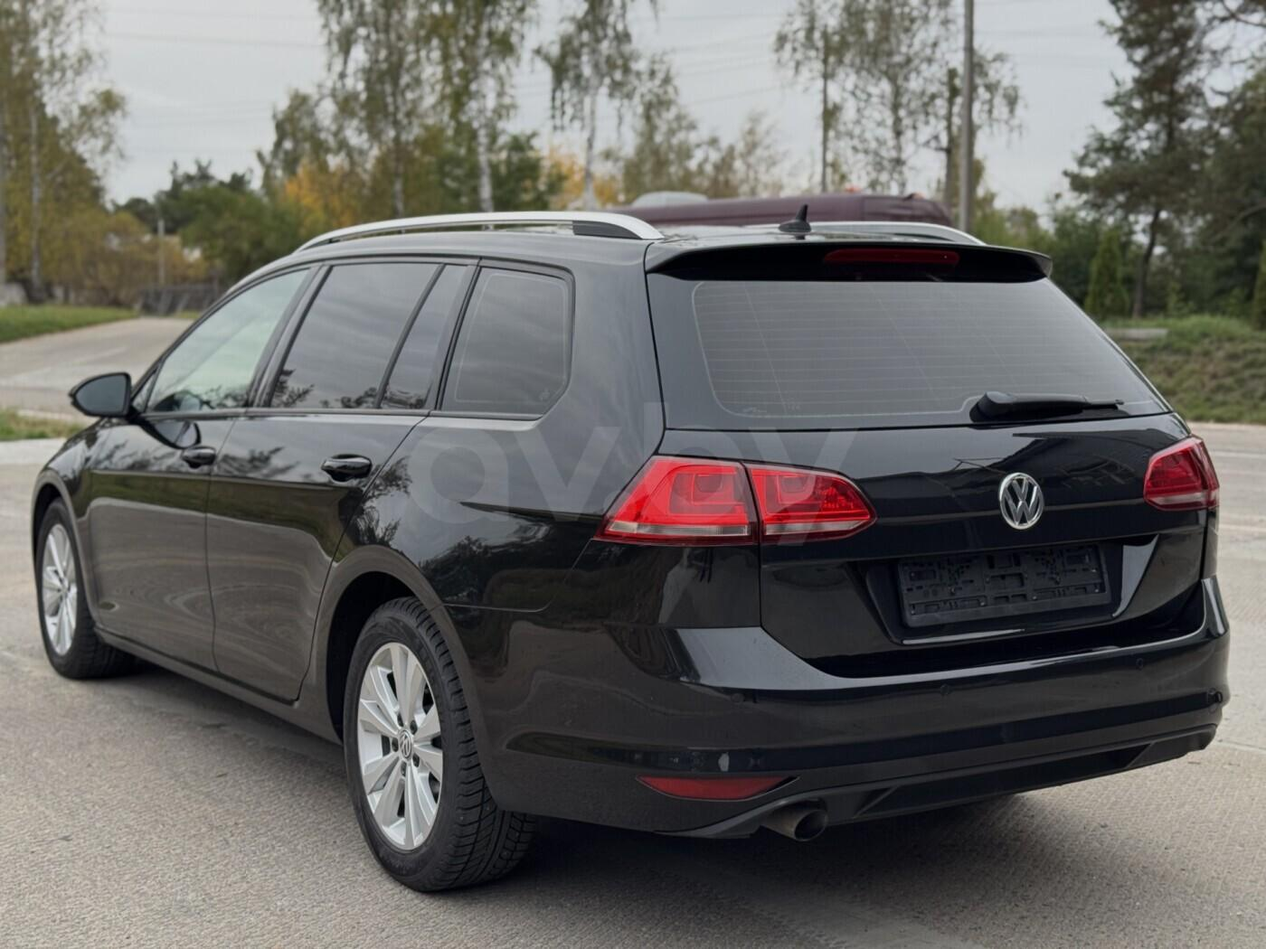Golf_2012-2017: (22, 201, 1231, 889)
